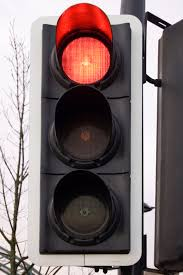red: (23, 8, 150, 270), (38, 17, 135, 260), (49, 32, 114, 234)
